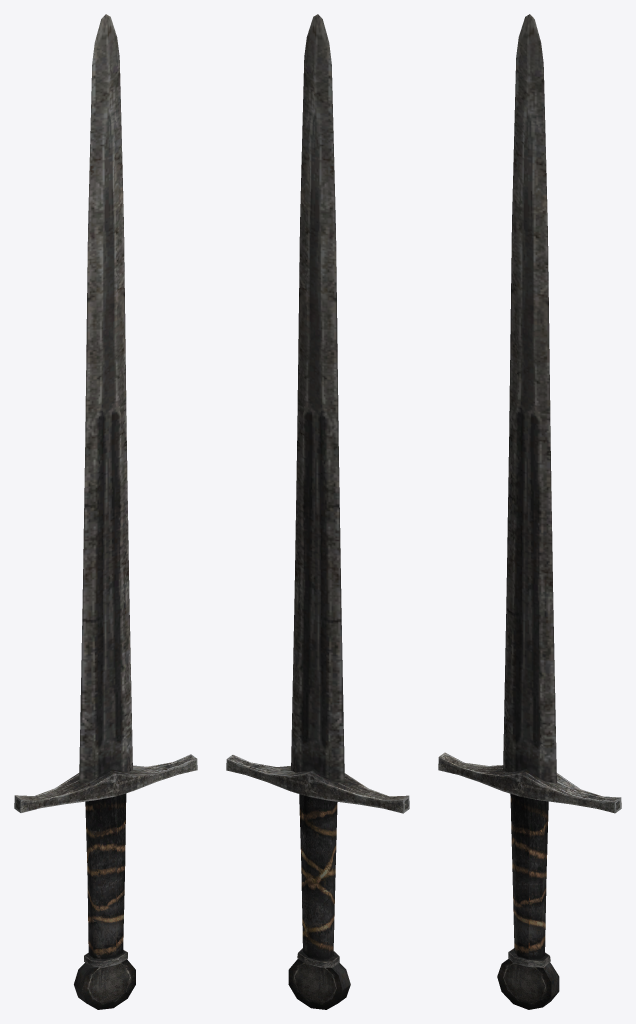
File: sword.obj
3 views of the same model, side by side, from view 1: azimuth 30°, elevation 25°; view 2: azimuth 150°, elevation 25°; view 3: azimuth 330°, elevation 25° (orthographic).
Parts seen in each view (by area): view 1: Sword; view 2: Sword; view 3: Sword.
Part boxes in pixels (x1=…): Sword: x1=14, y1=14, x2=197, y2=1009; Sword: x1=226, y1=14, x2=409, y2=1009; Sword: x1=438, y1=14, x2=621, y2=1009.
Size of the model in its own units: 21.65 by 116 by 4.13.
Materials: 1 (1 with a texture image).
